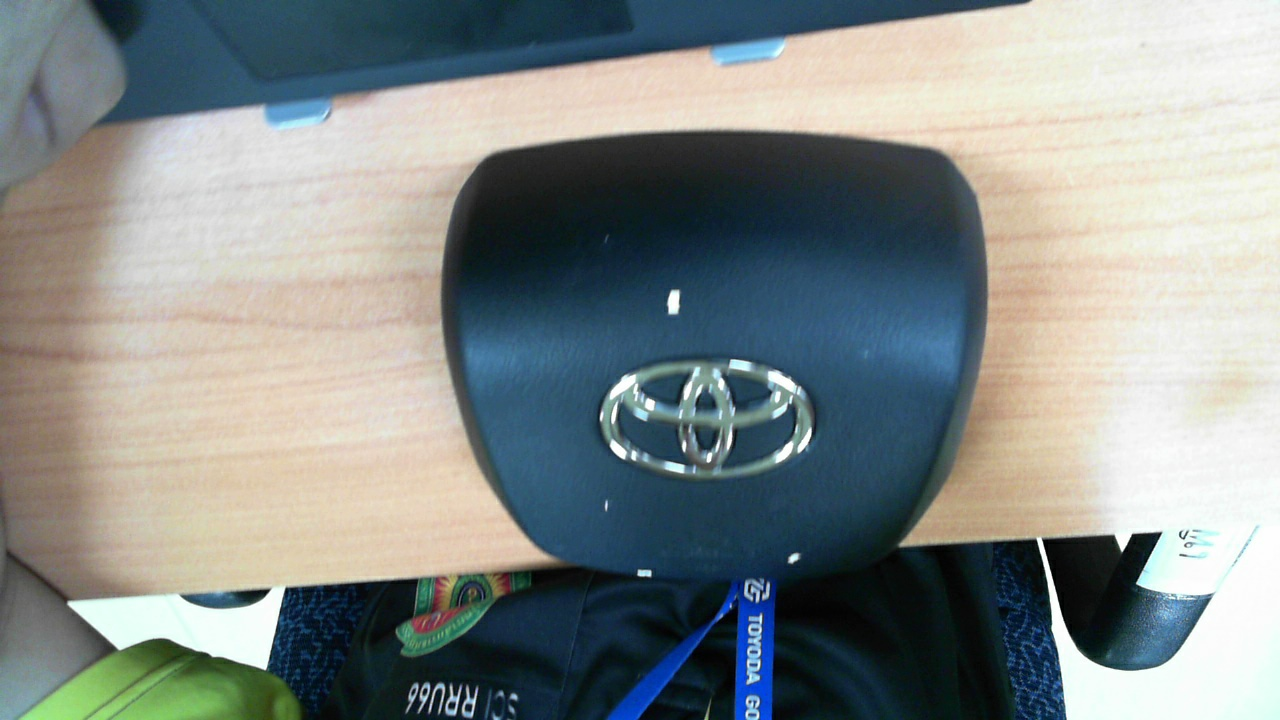Airbag: (441, 131, 988, 579)
Mark: (666, 289, 682, 316), (637, 568, 652, 578), (788, 552, 800, 564), (604, 234, 609, 244), (605, 499, 608, 512)
